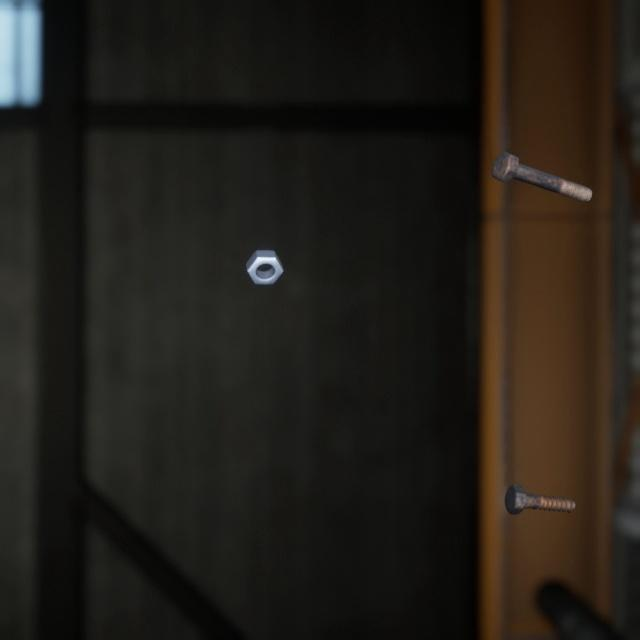bolt: (487, 132, 596, 192), (500, 458, 580, 497)
nut: (241, 228, 288, 272)
